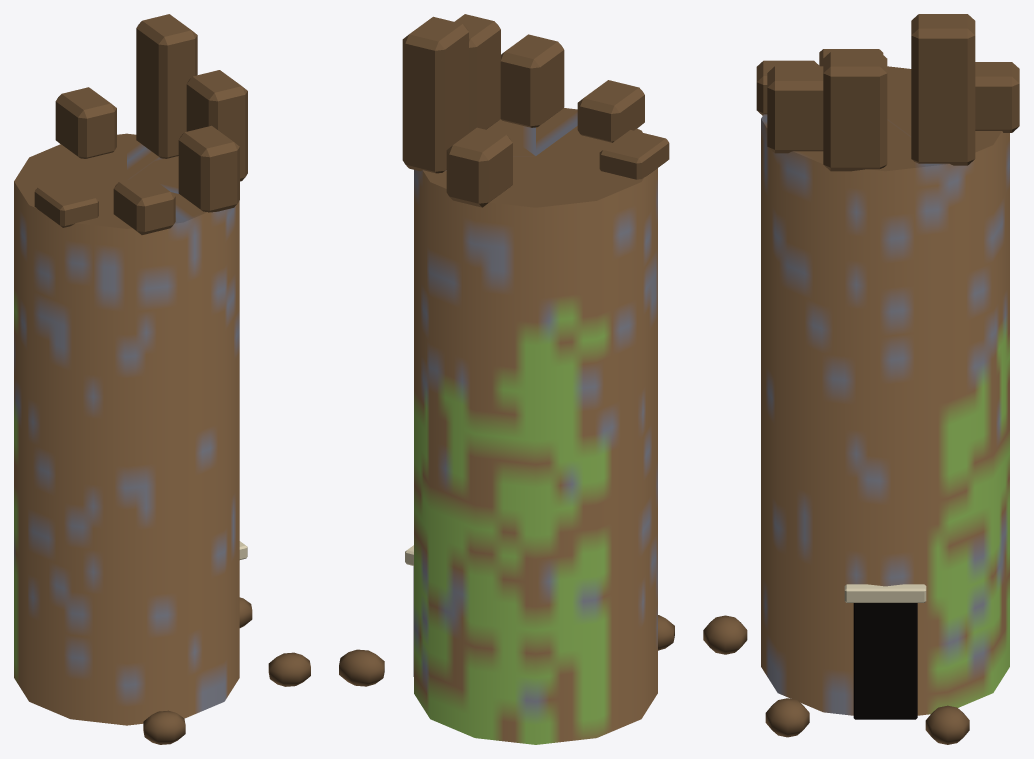
The model's file is prop_tower_4462.glb.
The picture shows the model from 3 angles, left to right: view 1: azimuth 30°, elevation 25°; view 2: azimuth 150°, elevation 25°; view 3: azimuth 270°, elevation 25°; orthographic projection. The views are drawn at different scales.
Visible parts, largest first — view 1: prop_tower_4462; view 2: prop_tower_4462; view 3: prop_tower_4462.
Part boxes in pixels (x1,y1,x2,y2): prop_tower_4462: [14, 14, 310, 744]; prop_tower_4462: [339, 14, 674, 744]; prop_tower_4462: [703, 14, 1019, 744].
Size of the model in its own units: 1.58 by 3.75 by 1.57.
Materials: 1 (1 with a texture image).
